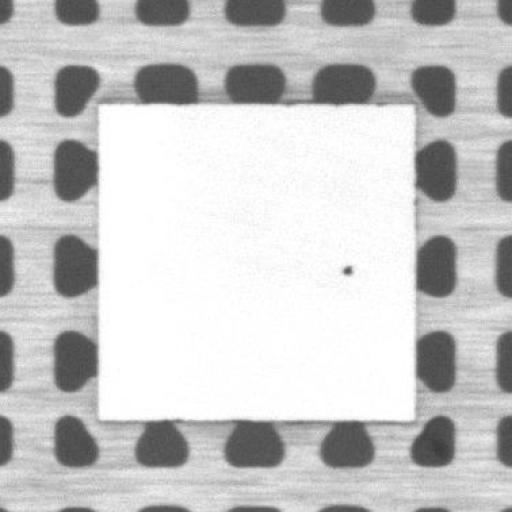DIE_INK: (340, 264, 354, 278)
